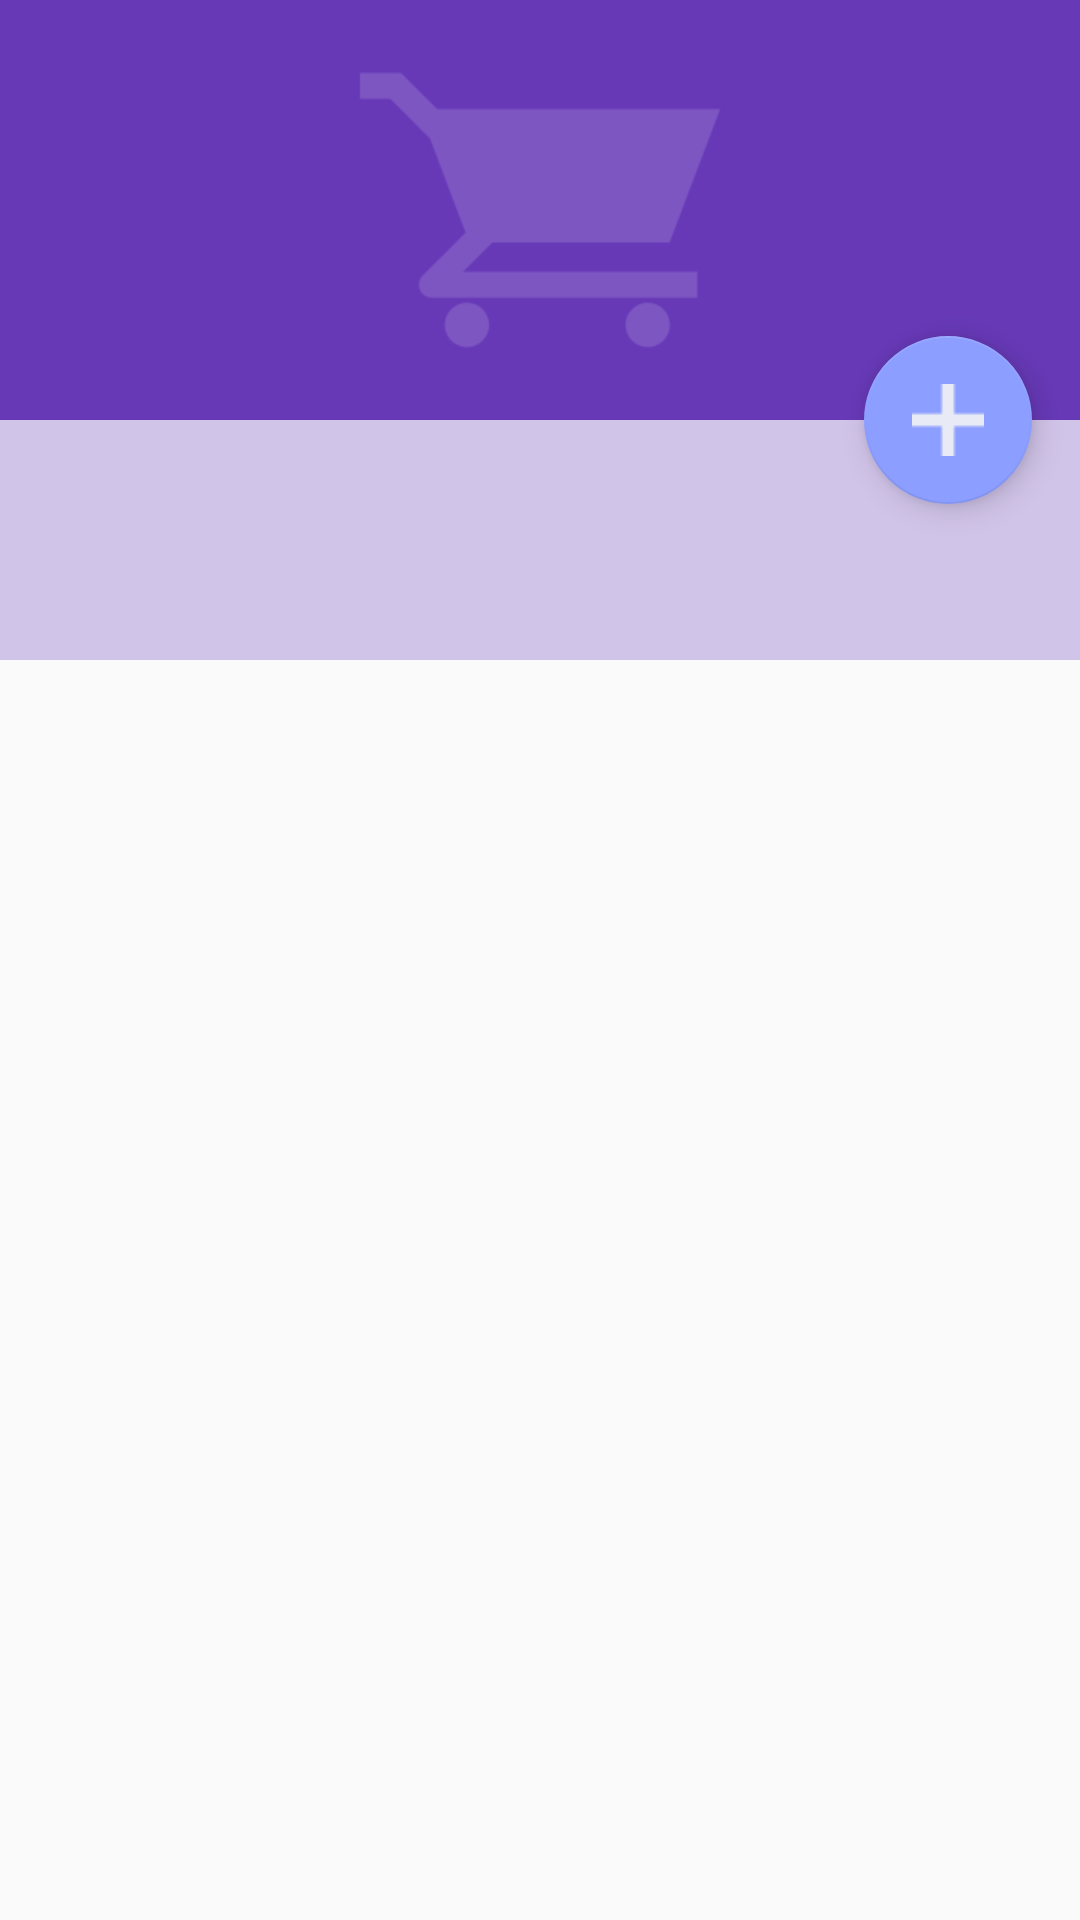

Point at icon controls on the screen. Image size 1080w x 1920h, points as [x,y].
add: [948,420]
